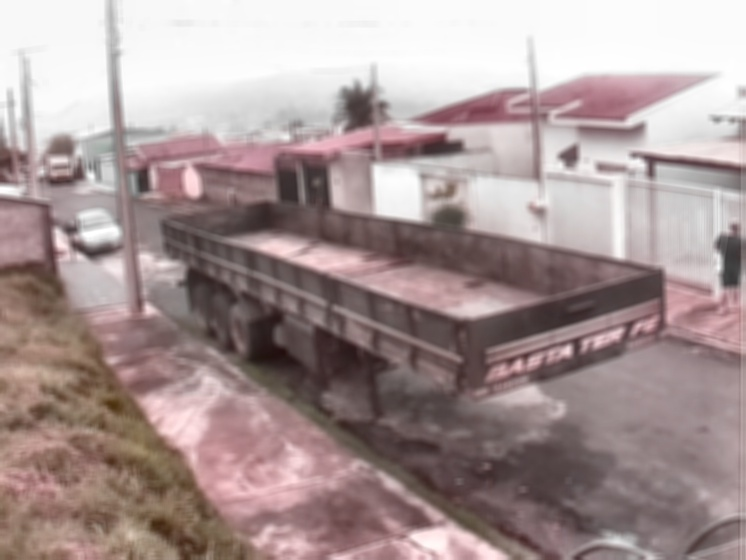person: (711, 218, 746, 316)
